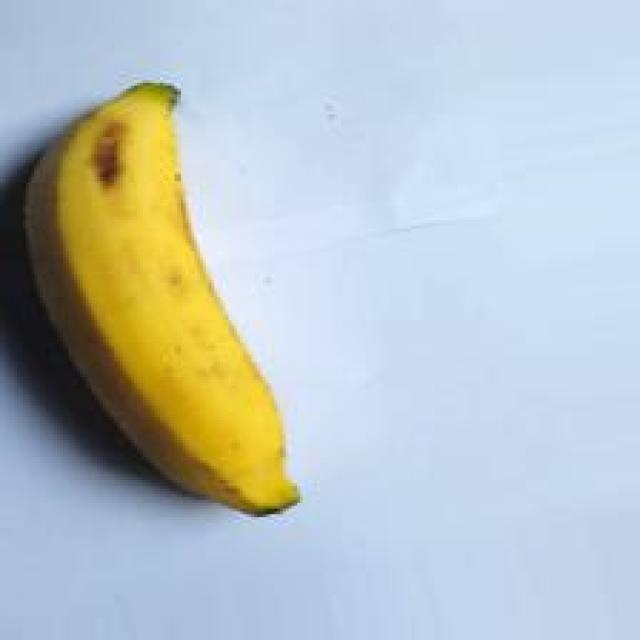bananas: (26, 48, 337, 526)
